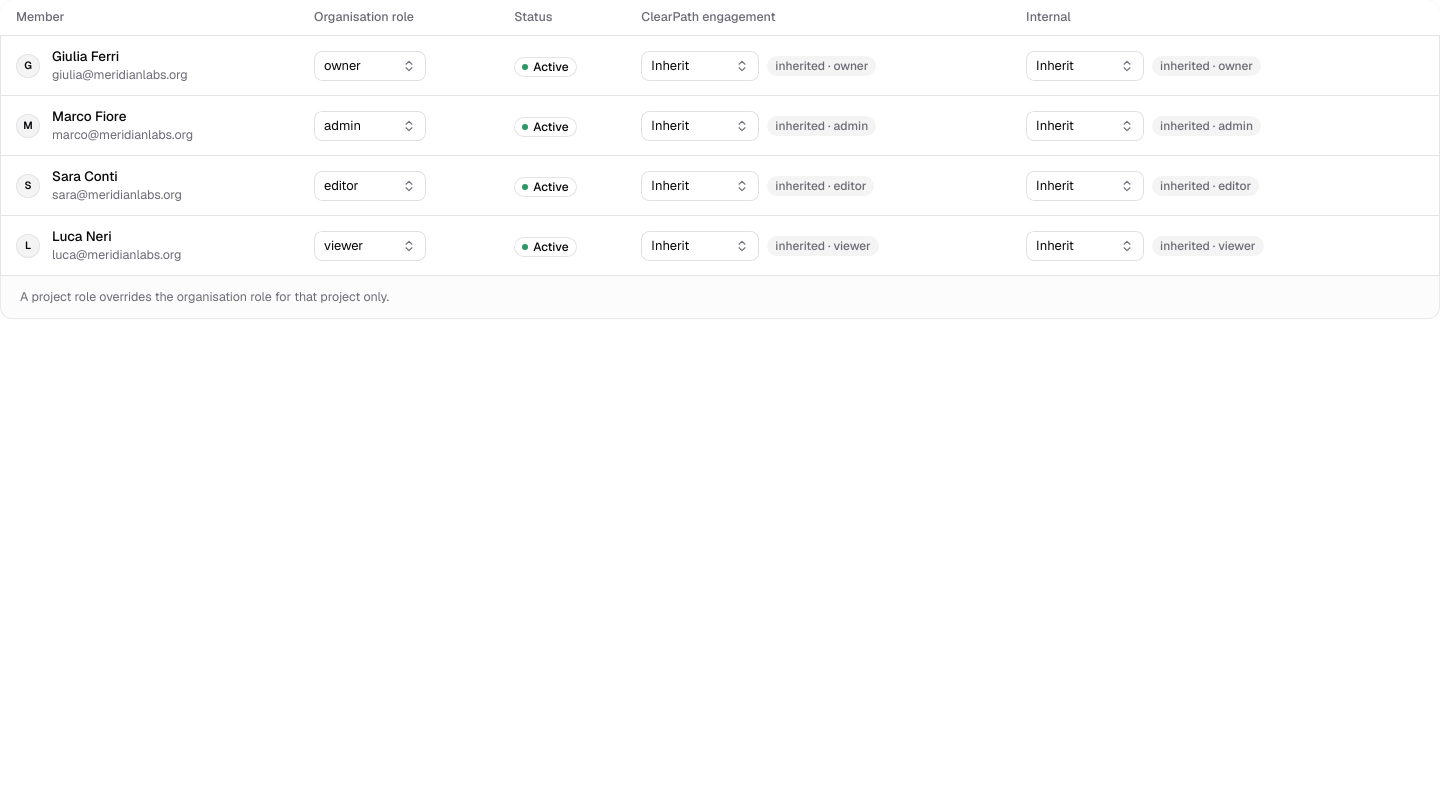
MembersTab › changing the organisation role › says why when the backend refuses, does not refresh and loads the list again
Expected: the text "Giulia Ferri" is shown, [52,47,119,65]
Select "viewer" in the dropdown named "Organisation role" in the row of "Giulia Ferri" at (370, 66), box [314,50,426,80]
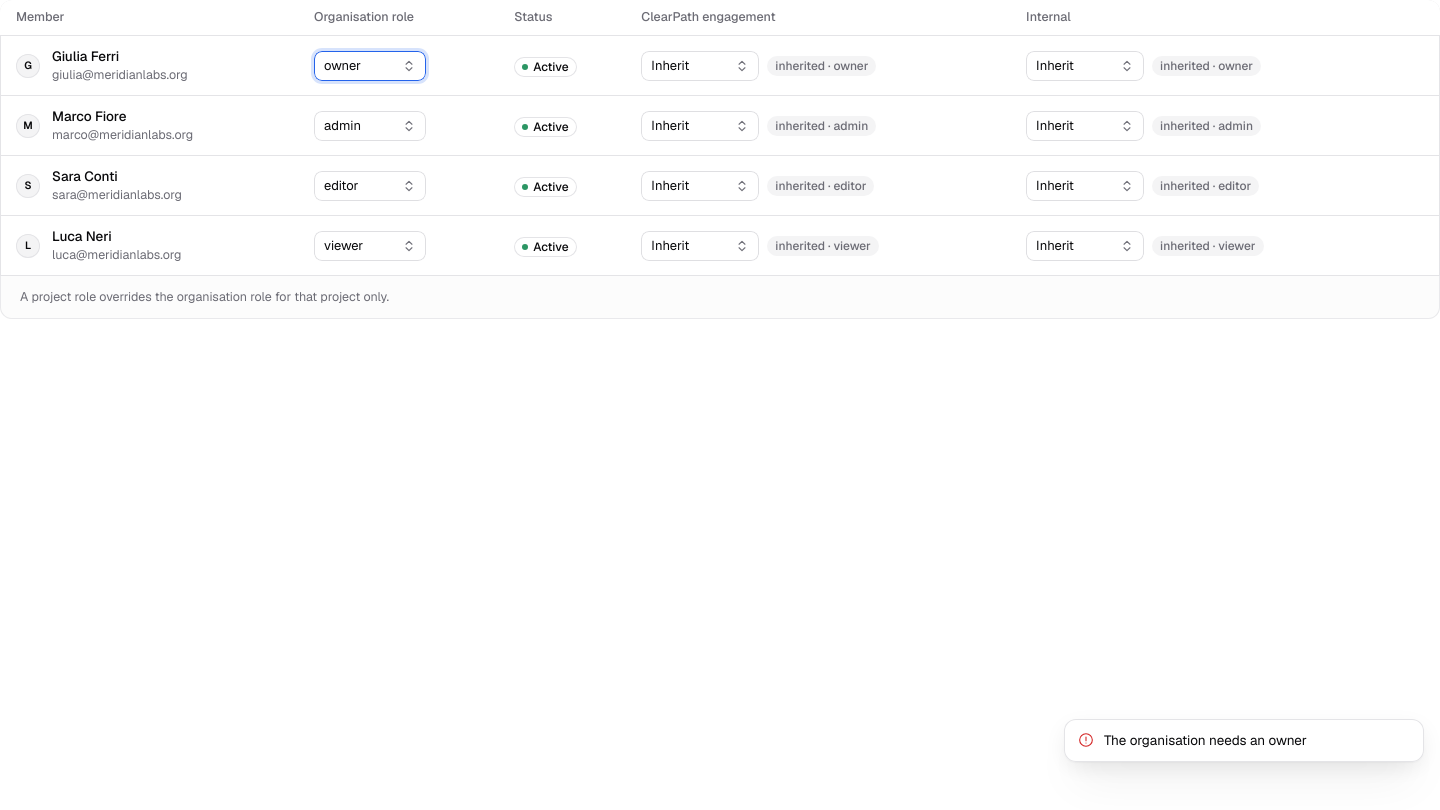
Expected: the text "The organisation needs an owner" is shown, [1104,731,1307,749]
